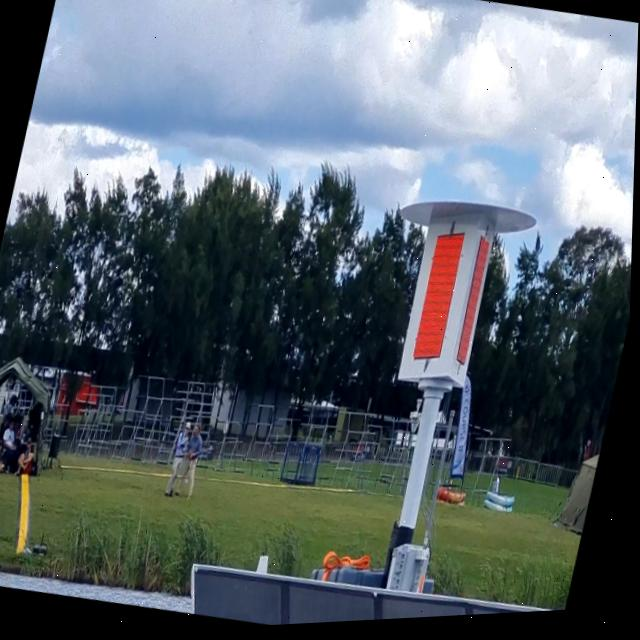led: (405, 222, 477, 374), (451, 229, 498, 377)
